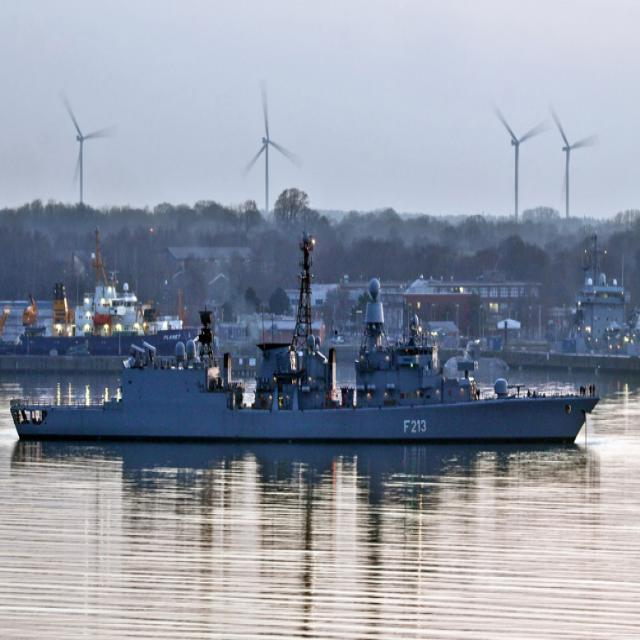Fragata: (10, 224, 601, 444)
